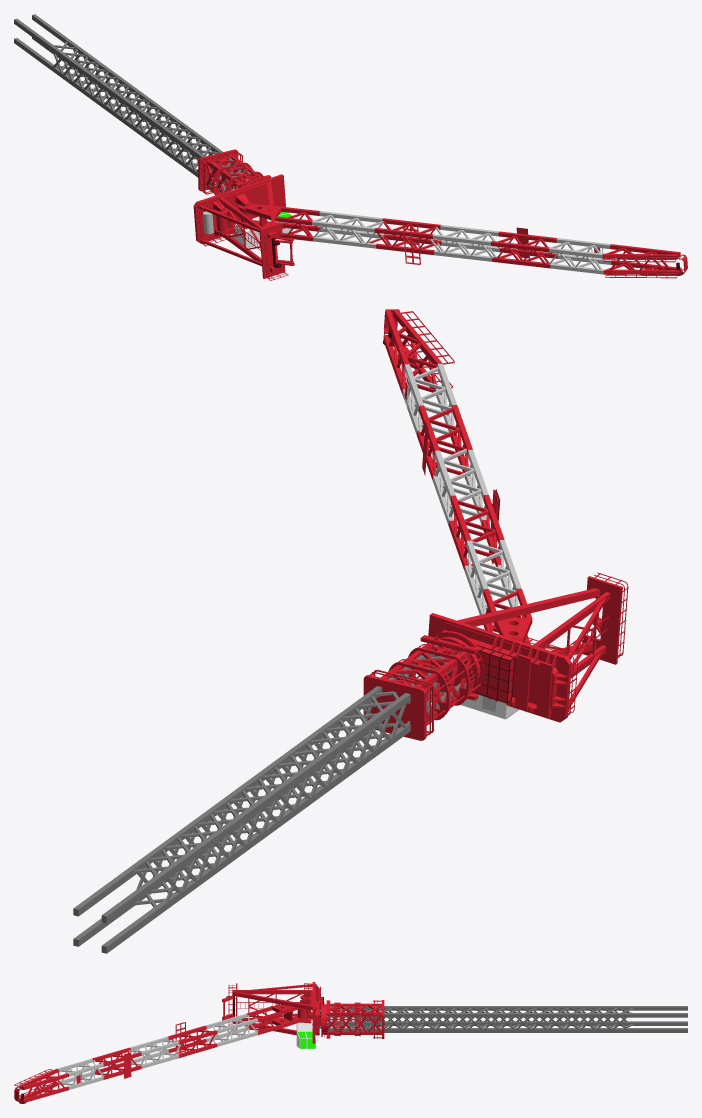
The model's file is tower_crane.glb.
3 views of the same model, one above another, from view 1: azimuth 30°, elevation 25°; view 2: azimuth 150°, elevation 25°; view 3: azimuth 270°, elevation 25° (orthographic). The views are drawn at different scales.
Parts seen in each view (by area): view 1: Cube.048, Circle.019, Cube.044, Circle.013, Circle.017, Plane.011; view 2: Circle.019, Cube.048, Cube.044, Circle.013, Circle.017; view 3: Circle.019, Cube.048, Cube.044, Circle.013, Circle.017, Circle.014, Plane.011, Cube.037.
Boxes of the visible parts, left/top/right/bottom form: Cube.048: left=238, top=204, right=687, bottom=278; Circle.019: left=14, top=14, right=255, bottom=195; Cube.044: left=193, top=174, right=288, bottom=280; Circle.013: left=198, top=149, right=271, bottom=195; Circle.017: left=206, top=156, right=257, bottom=193; Plane.011: left=233, top=212, right=294, bottom=247; Circle.019: left=73, top=645, right=466, bottom=953; Cube.048: left=383, top=309, right=532, bottom=644; Cube.044: left=428, top=572, right=628, bottom=722; Circle.013: left=363, top=631, right=484, bottom=740; Circle.017: left=392, top=645, right=471, bottom=718; Circle.019: left=312, top=1006, right=687, bottom=1032; Cube.048: left=14, top=1002, right=307, bottom=1103; Cube.044: left=226, top=982, right=323, bottom=1043; Circle.013: left=321, top=1000, right=384, bottom=1038; Circle.017: left=327, top=1005, right=381, bottom=1031; Circle.014: left=327, top=1003, right=381, bottom=1034; Plane.011: left=296, top=1019, right=319, bottom=1048; Cube.037: left=297, top=1031, right=315, bottom=1048.
Size of the model in its own units: 26.09 by 4.9 by 63.19.
